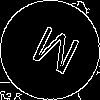M: (25, 25, 82, 85)
